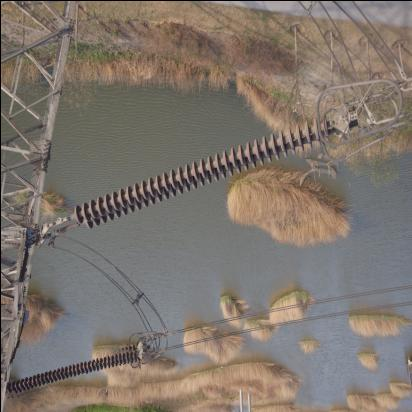insulator: (58, 114, 341, 234), (7, 341, 142, 405)
